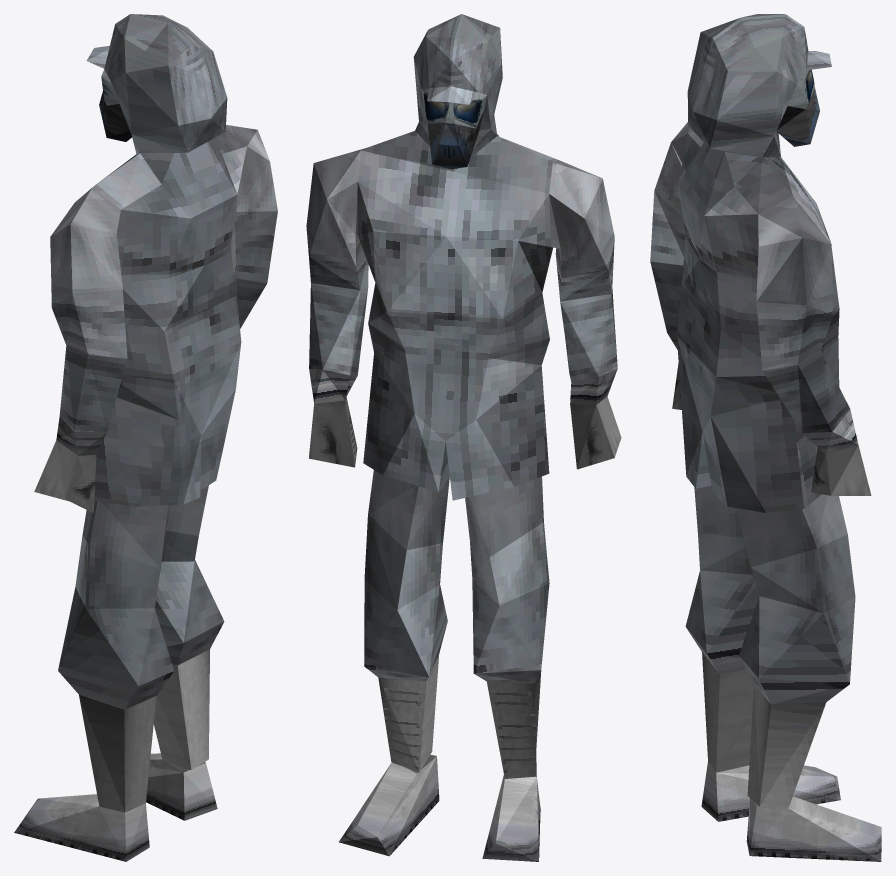
File: primary_019.glb
3 renders of one model, left to right at view 1: azimuth 30°, elevation 25°; view 2: azimuth 150°, elevation 25°; view 3: azimuth 270°, elevation 25°, orthographic. The views are drawn at different scales.
Visible parts, largest first — view 1: Object; view 2: Object; view 3: Object.
Part boxes in pixels (x1,y1,x2,y2): Object: [14, 14, 277, 861]; Object: [306, 14, 621, 861]; Object: [650, 14, 881, 861].
Size of the model in its own units: 0.7266 by 2.08 by 0.5323.
Materials: 71 (71 with a texture image).
